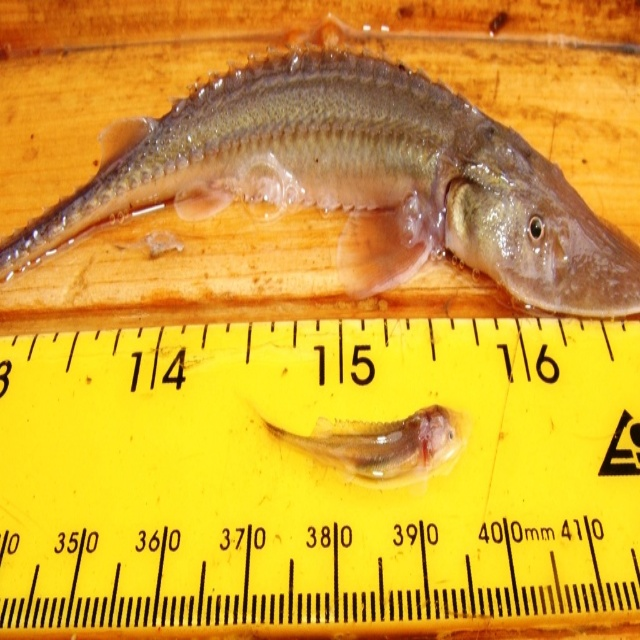Fish: (0, 22, 637, 335), (242, 391, 466, 485)
